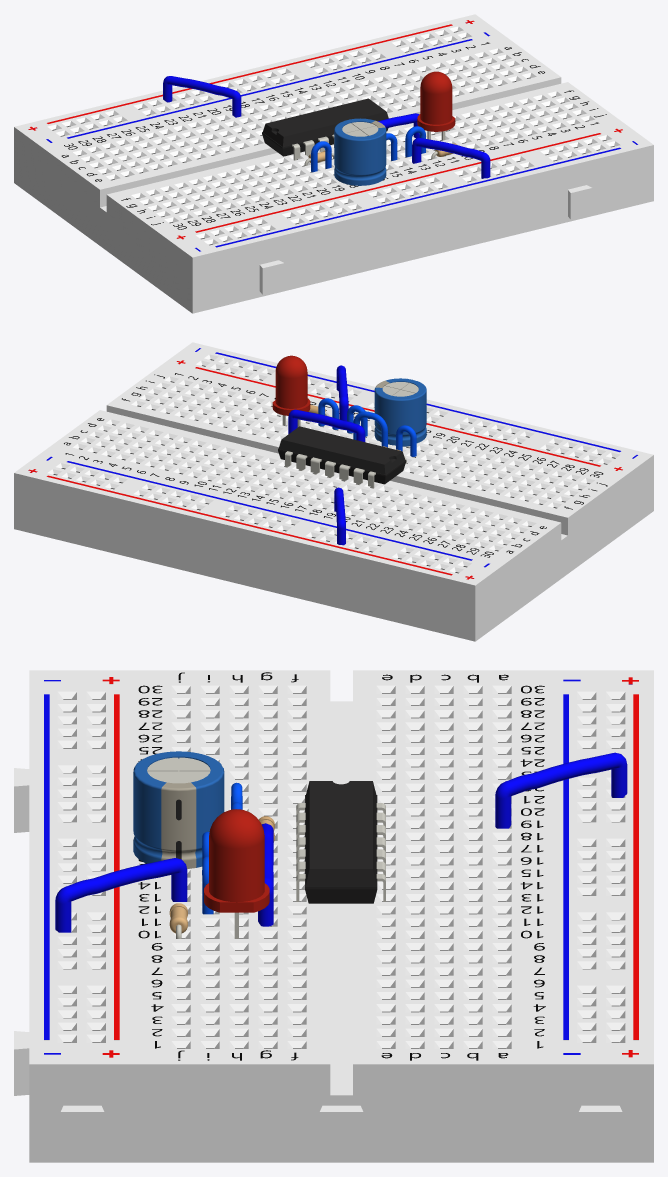
The picture shows the model from 3 angles, top to bottom: view 1: azimuth 30°, elevation 25°; view 2: azimuth 150°, elevation 25°; view 3: azimuth 270°, elevation 25°; orthographic projection. The views are drawn at different scales.
Visible parts, largest first — view 1: HalfBreadboard001, HalfBreadboard, DIP-14_W7.62mm, CP_Radial_D80mm_P380mm, LED_D5.0mm, wire_12mm_Blue001, wire_12mm_Blue; view 2: HalfBreadboard001, DIP-14_W7.62mm, HalfBreadboard, CP_Radial_D80mm_P380mm, LED_D5.0mm, wire_12mm_Blue002, wire_12mm_Blue001, wire_12mm_Blue; view 3: HalfBreadboard001, DIP-14_W7.62mm, CP_Radial_D80mm_P380mm, HalfBreadboard, LED_D5.0mm, wire_12mm_Blue001, wire_12mm_Blue, wire_12mm_Blue002.
Boxes of the visible parts, x1,y1,x2,y2 form: HalfBreadboard001: (14,14,653,307); HalfBreadboard: (14,177,653,313); DIP-14_W7.62mm: (262,98,388,160); CP_Radial_D80mm_P380mm: (334,118,386,185); LED_D5.0mm: (417,71,455,140); wire_12mm_Blue001: (163,76,241,117); wire_12mm_Blue: (412,137,490,178); HalfBreadboard001: (14,342,653,635); DIP-14_W7.62mm: (278,426,406,488); HalfBreadboard: (14,505,653,641); CP_Radial_D80mm_P380mm: (374,378,426,446); LED_D5.0mm: (272,355,310,427); wire_12mm_Blue002: (288,409,365,441); wire_12mm_Blue001: (334,487,345,545); wire_12mm_Blue: (336,365,348,421); HalfBreadboard001: (14,670,653,1158); DIP-14_W7.62mm: (296,781,385,903); CP_Radial_D80mm_P380mm: (133,751,224,868); HalfBreadboard: (29,1152,653,1162); LED_D5.0mm: (204,809,269,938); wire_12mm_Blue001: (495,752,627,828); wire_12mm_Blue: (55,858,187,932); wire_12mm_Blue002: (258,823,273,926).
Size of the model in its own units: 8.3 by 2.09 by 5.61.
